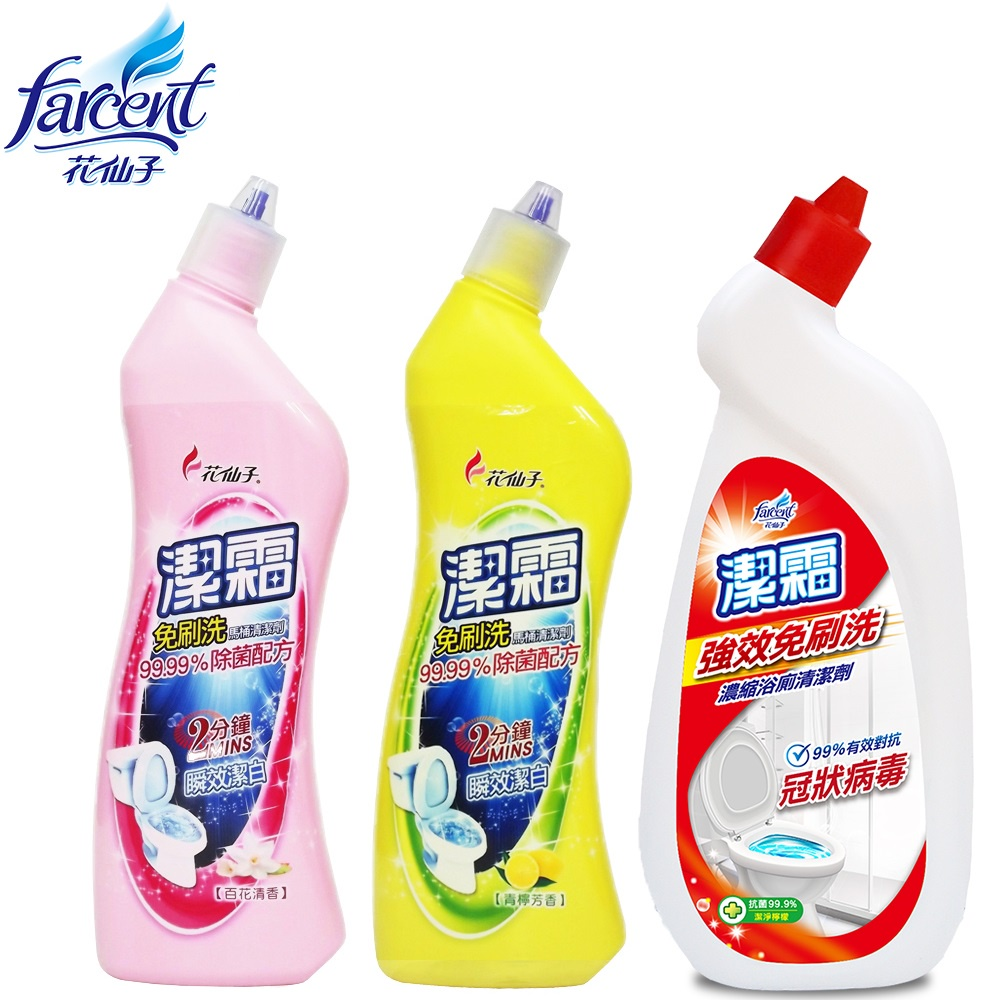cleaner: (632, 165, 974, 992), (76, 162, 352, 993), (370, 163, 638, 990)
